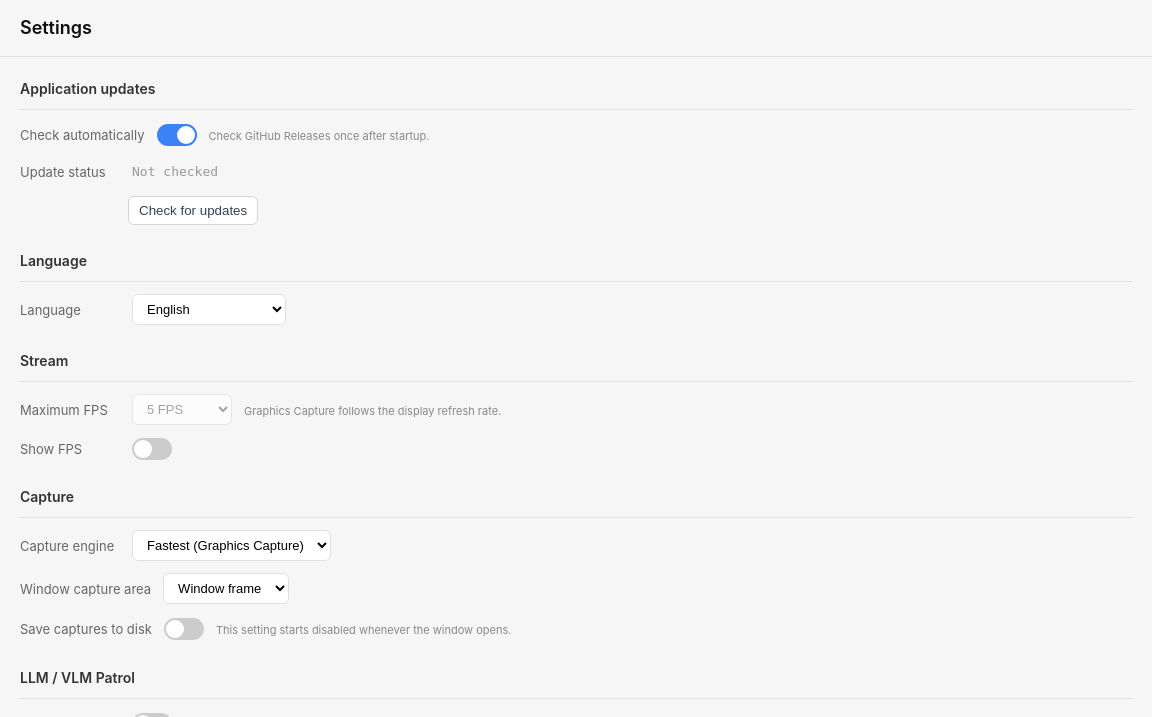
Test: switches the GUI to Traditional Chinese and persists the choice
This screenshot has width=1152, height=717.
Select "Traditional Chinese" in the dropdown labelled "Language" at (209, 310), box [132,294,286,325]
(page scrolled)
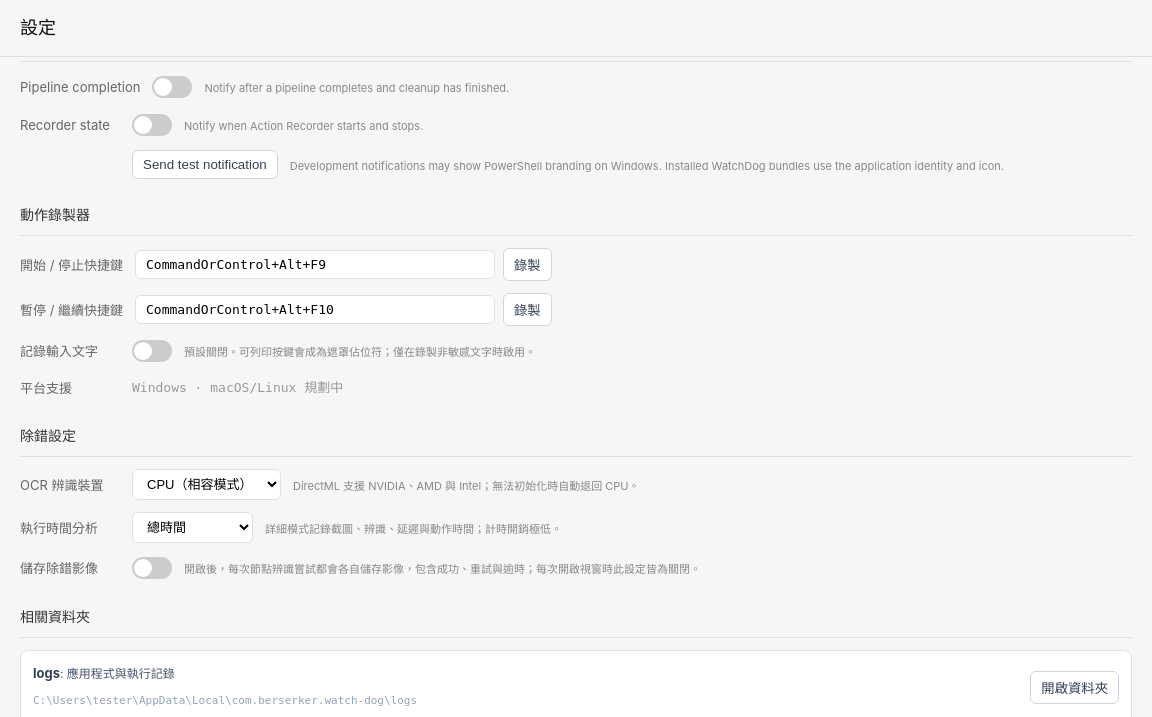
Expected: the heading "設定" is shown, [20,17,56,38]
Expected: the field labelled "開始 / 停止快捷鍵" is shown, [135,250,495,279]
Expected: the field labelled "暫停 / 繼續快捷鍵" is shown, [135,295,495,324]
